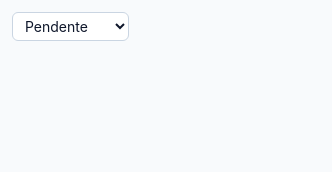
OrderStatusControl › alterar chama a ação com o id do pedido e a nova situação, e avisa quando salvou
Later steps or results of the test are not shown.
Select "Confirmado" in the dropdown named "Situação do pedido #42": point(70, 26) [12, 12, 129, 41]
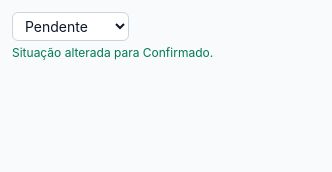
expect the text "Situação alterada para Confirmado." is shown: met, box [12, 45, 213, 60]
